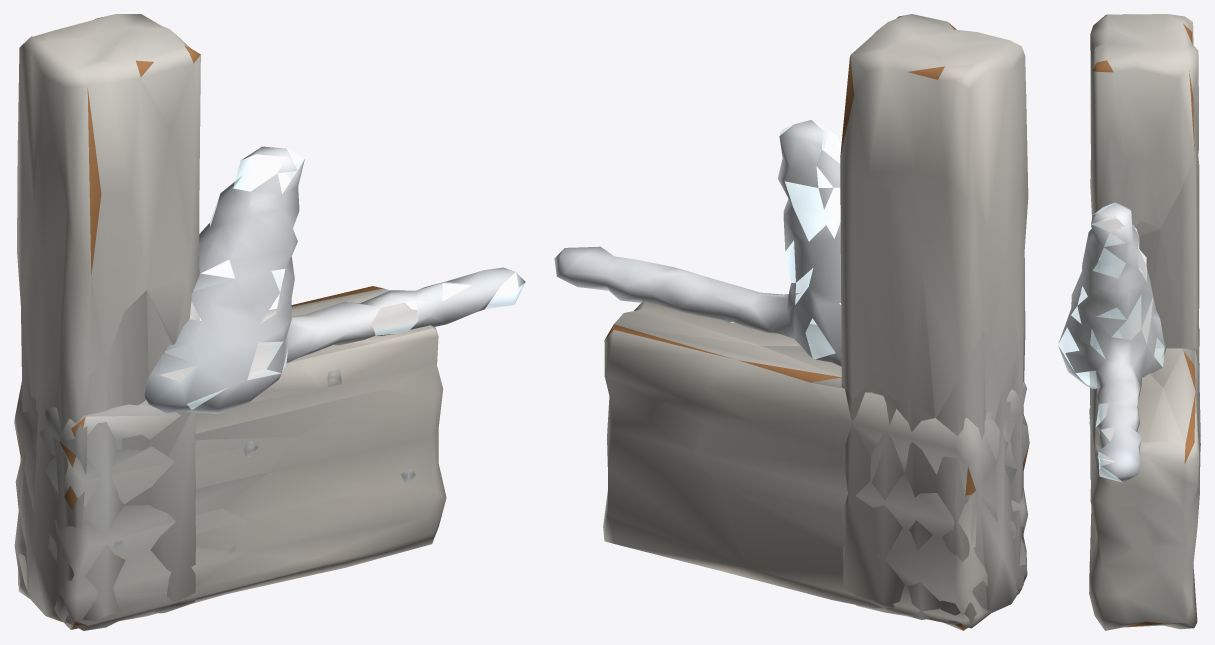
The model's file is frost_window_cliff_corner_lod2.glb.
3 renders of one model, left to right at view 1: azimuth 30°, elevation 25°; view 2: azimuth 150°, elevation 25°; view 3: azimuth 270°, elevation 25°, orthographic. The views are drawn at different scales.
Visible parts, largest first — view 1: frost_window_cliff_corner.001; view 2: frost_window_cliff_corner.001; view 3: frost_window_cliff_corner.001.
Boxes of the visible parts, x1=… form: frost_window_cliff_corner.001: x1=14, y1=14, x2=525, y2=630; frost_window_cliff_corner.001: x1=554, y1=14, x2=1029, y2=630; frost_window_cliff_corner.001: x1=1058, y1=14, x2=1200, y2=630.
Bounding box in the file's own units: 17.72 × 20.28 × 5.53.
